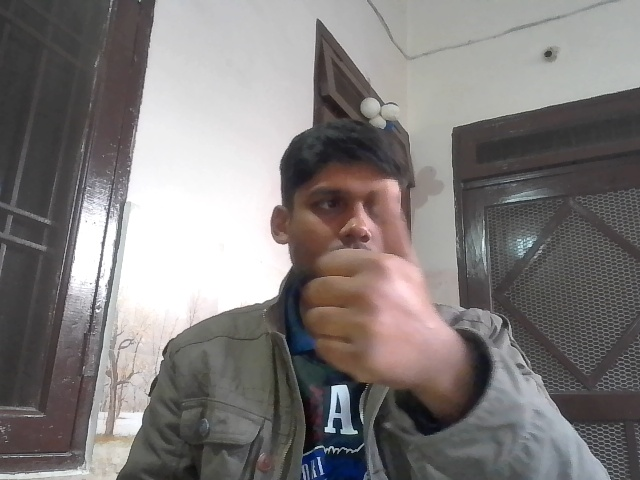BestOfLuck: (298, 175, 429, 394)
